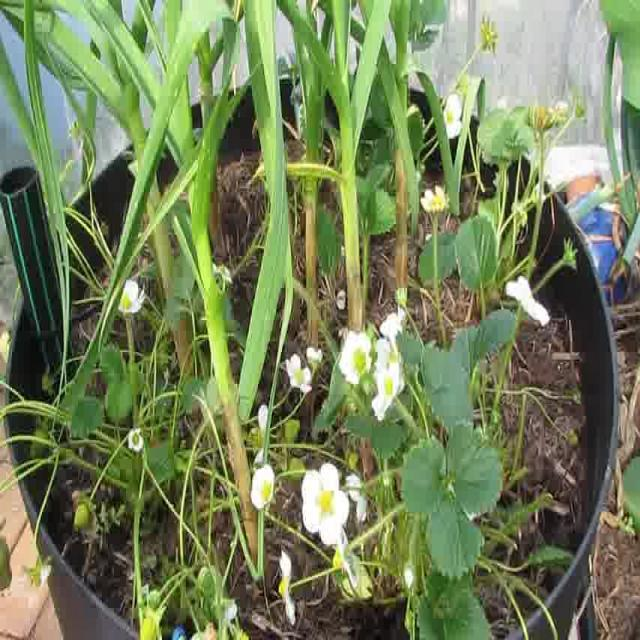Fruta sana: (74, 494, 96, 531), (29, 418, 48, 460), (142, 608, 166, 640), (276, 419, 300, 449), (0, 536, 13, 590), (286, 458, 306, 481), (41, 373, 54, 397), (348, 450, 360, 470)
Moho gris: (190, 620, 218, 640)
